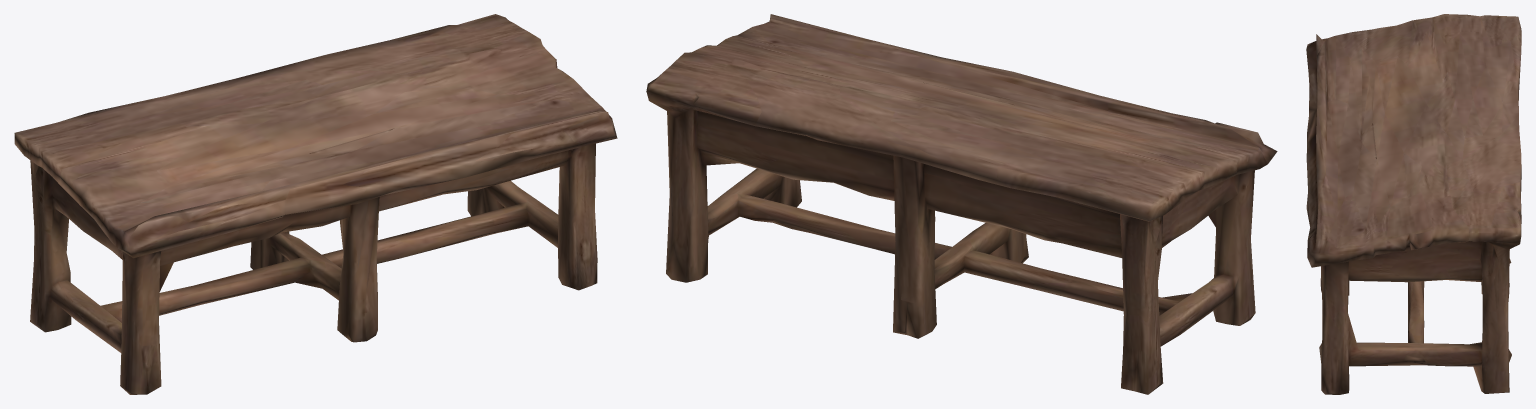
The model's file is reading_desk.glb.
3 views of the same model, side by side, from view 1: azimuth 30°, elevation 25°; view 2: azimuth 150°, elevation 25°; view 3: azimuth 270°, elevation 25° (orthographic). The views are drawn at different scales.
Visible parts, largest first — view 1: tripo_node_816d00ca-493e-4834-849c-e9d776c15715; view 2: tripo_node_816d00ca-493e-4834-849c-e9d776c15715; view 3: tripo_node_816d00ca-493e-4834-849c-e9d776c15715.
Part boxes in pixels (bbox=[...]): tripo_node_816d00ca-493e-4834-849c-e9d776c15715: bbox=[14, 14, 617, 394]; tripo_node_816d00ca-493e-4834-849c-e9d776c15715: bbox=[646, 14, 1277, 394]; tripo_node_816d00ca-493e-4834-849c-e9d776c15715: bbox=[1306, 14, 1521, 394].
Bounding box in the file's own units: 0.9762 × 0.3672 × 0.4107.
1 material, 1 textured.
